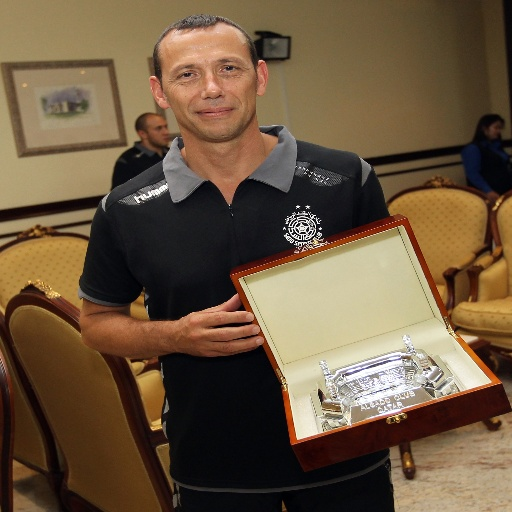hand: (141, 299, 270, 365)
